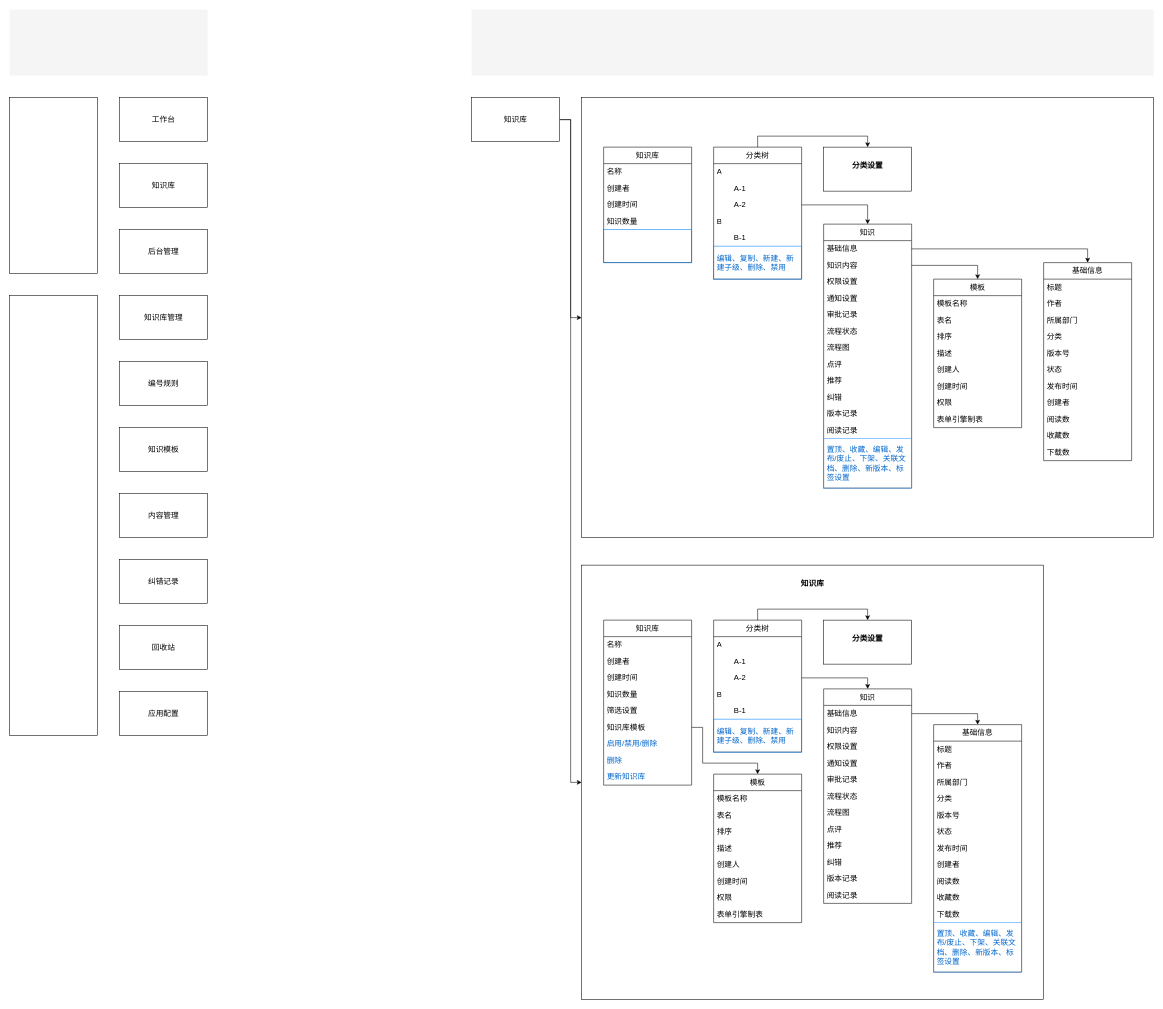
The diagram is 1163 pixels wide and 1009 high, and some of its shapes have lost their labels. Each missing label, with the box of its shape:
前台: (9, 97, 98, 274)
后台: (9, 295, 98, 736)
启用、禁用、删除、更新知识库: (603, 229, 692, 263)
导航: (9, 9, 207, 75)
数据关系: (471, 9, 1153, 75)
知识文档库: (581, 97, 1154, 538)
